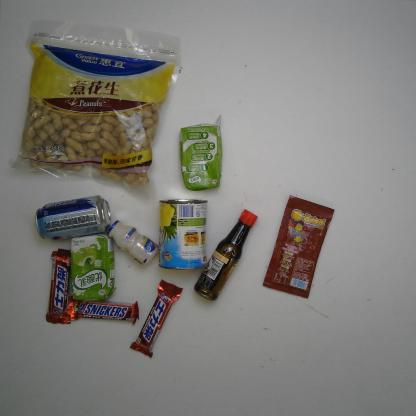Alcohol: (33, 194, 112, 242)
Candy: (262, 193, 336, 300)
Canned Food: (156, 198, 209, 270)
Chocolate: (128, 278, 184, 359), (45, 248, 75, 326), (75, 300, 141, 328)
Dried Food: (4, 17, 185, 204)
Milk: (177, 113, 224, 192), (69, 232, 118, 303), (106, 219, 160, 268)
Seasoner: (193, 207, 260, 302)
